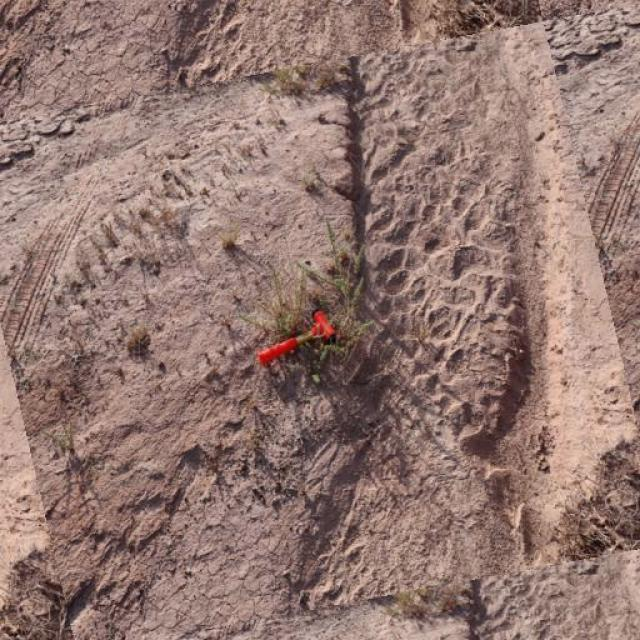mallet: (255, 308, 336, 367)
